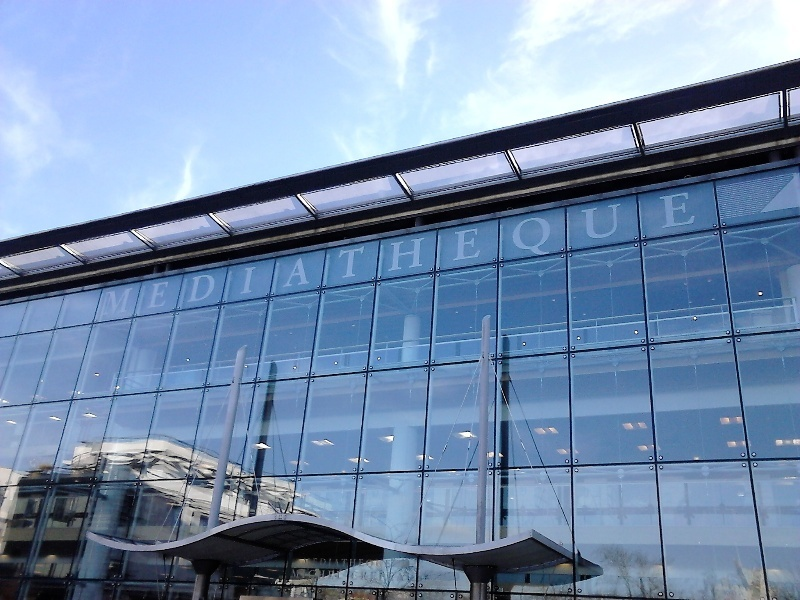text: (113, 190, 128, 318), (129, 190, 144, 318), (145, 190, 160, 318), (161, 190, 176, 318), (177, 190, 192, 318), (193, 190, 208, 318), (209, 190, 224, 318), (225, 190, 240, 318), (241, 190, 256, 318), (257, 190, 272, 318), (273, 190, 288, 318), (289, 190, 304, 318), (305, 190, 320, 318), (321, 190, 336, 318), (337, 190, 352, 318), (353, 190, 368, 318), (369, 190, 384, 318), (385, 190, 400, 318), (401, 190, 416, 318), (417, 190, 432, 318), (433, 190, 448, 318), (449, 190, 464, 318), (465, 190, 480, 318), (481, 190, 496, 318), (497, 190, 512, 318), (513, 190, 528, 318), (529, 190, 544, 318), (545, 190, 560, 318), (561, 190, 576, 318), (577, 190, 592, 318), (593, 190, 608, 318), (609, 190, 624, 318), (625, 190, 640, 318), (641, 190, 656, 318), (657, 190, 672, 318), (673, 190, 688, 318), (689, 190, 701, 318), (103, 190, 112, 318), (401, 570, 417, 583), (305, 568, 320, 581), (321, 568, 336, 581), (353, 570, 368, 583), (369, 570, 384, 583), (385, 570, 400, 583), (290, 568, 304, 581), (305, 558, 320, 569), (321, 558, 336, 569), (337, 558, 352, 569), (353, 558, 368, 569), (369, 558, 384, 569), (337, 568, 345, 581), (385, 558, 394, 569), (299, 558, 304, 569), (351, 570, 352, 583)
